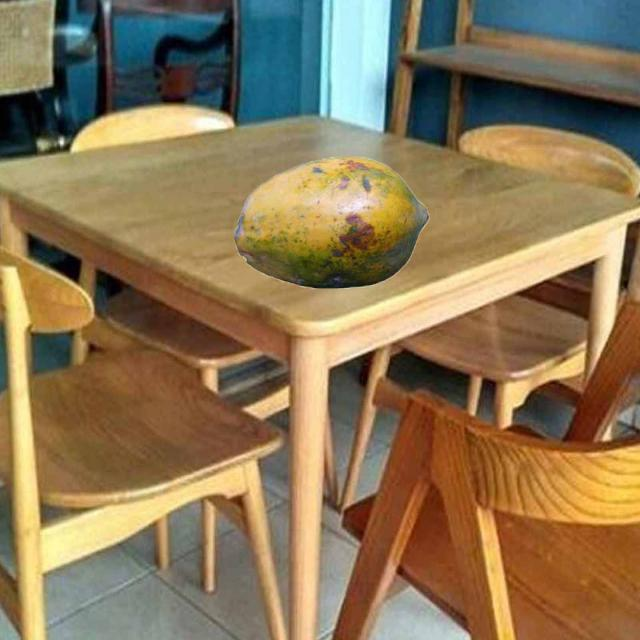Pepaya rippen: (232, 150, 432, 295)
